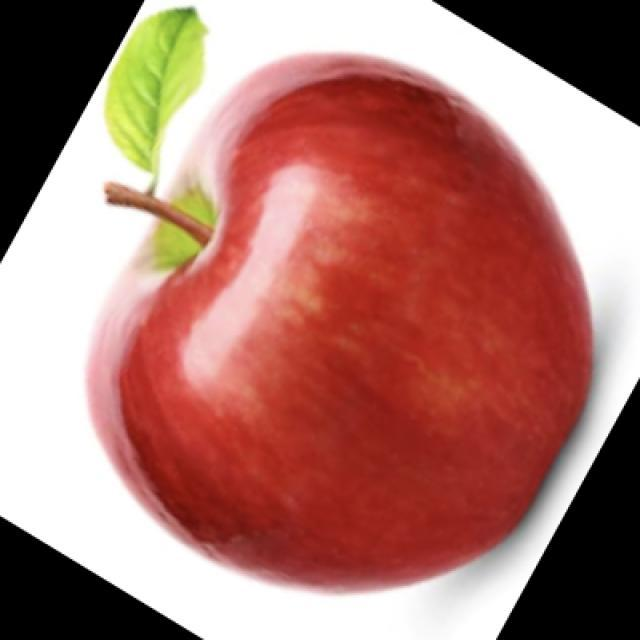Fresh Apple: (111, 55, 640, 636)
